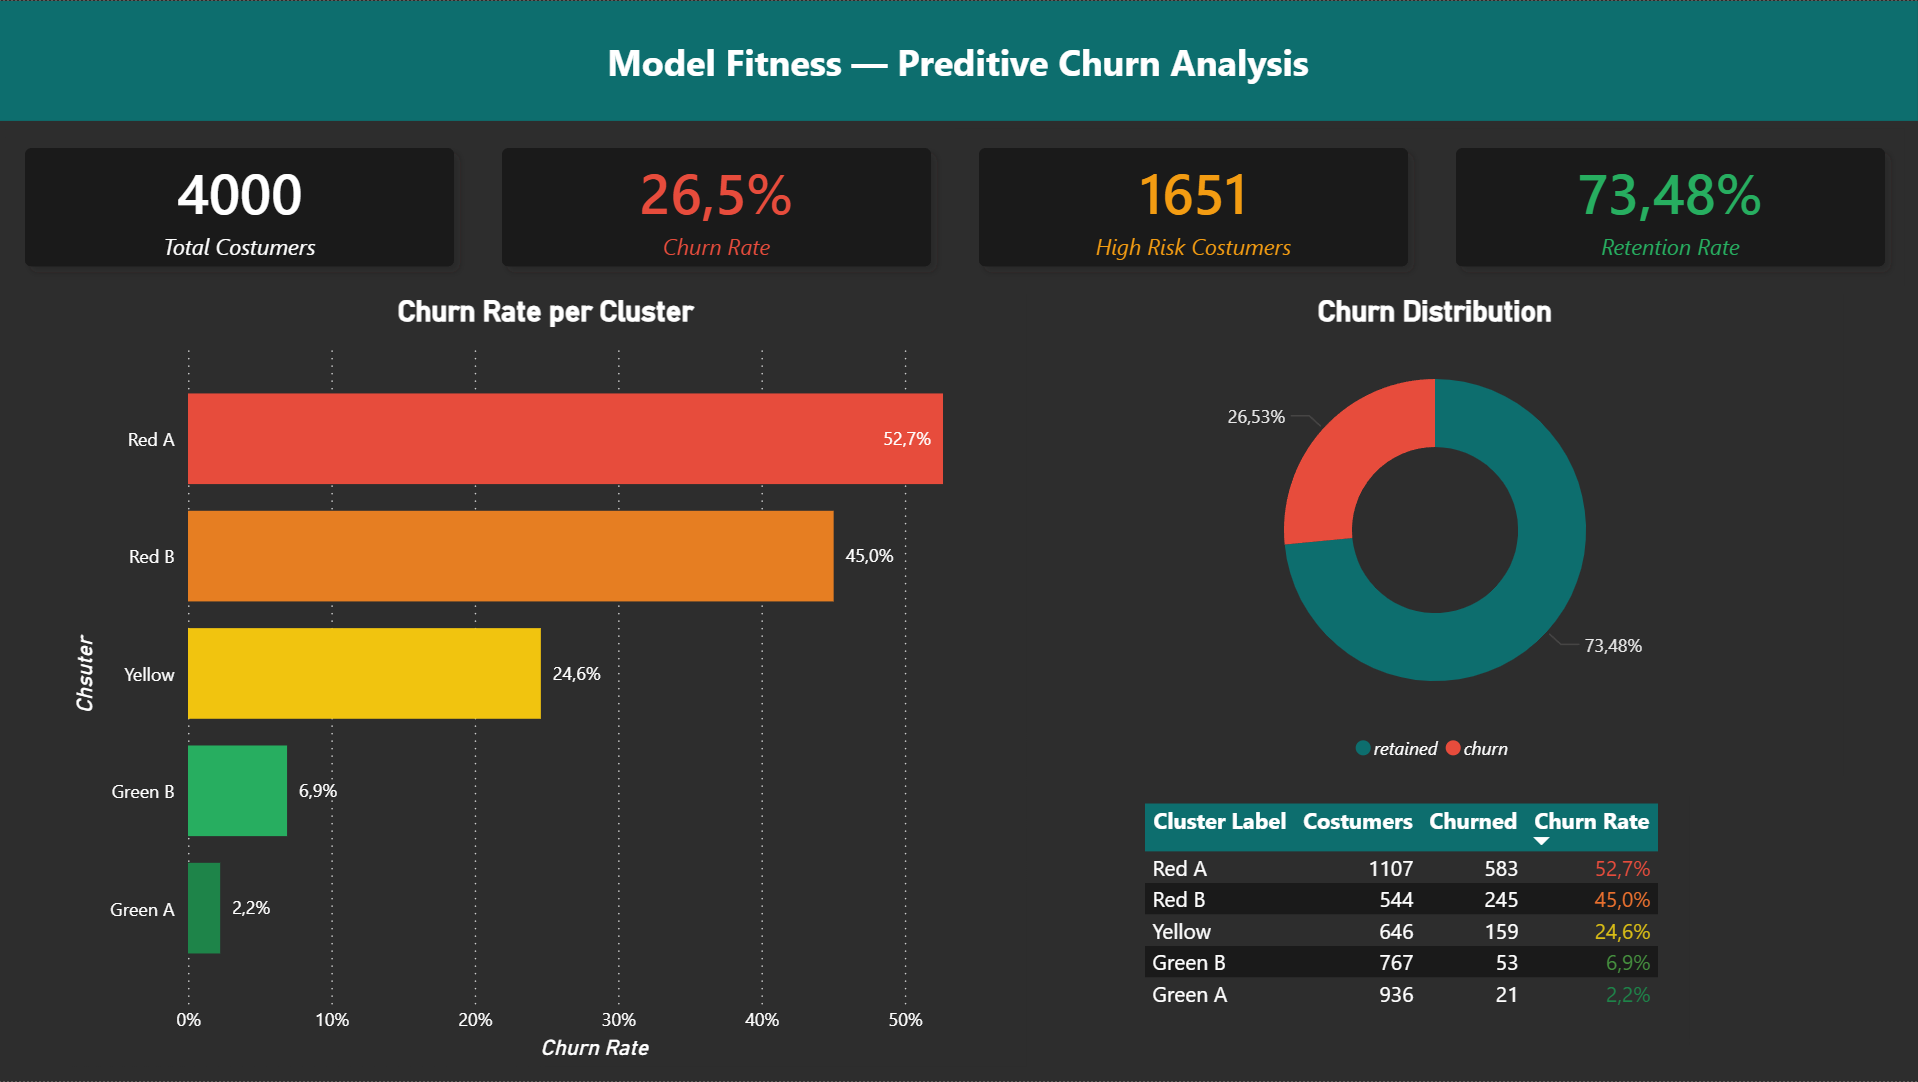

This screenshot's page, from the dashboard's own definition file:
{"tool":"powerbi","page":{"name":"Executive","canvas":[1280,720],"ordinal":0},"visuals":[{"type":"shape","box":[0,0,1279.8,79.8],"z":0},{"type":"cardVisual","fields":{"Data":["gym_churn.total_costumers","gym_churn.churn_rate","gym_churn.risk_costumers","gym_churn.retention_rate"]},"box":[0,79.8,1279.8,115.7],"z":1000},{"type":"donutChart","title":"Churn Distribution","fields":{"Y":["gym_churn.total_costumers"],"Category":["gym_churn.Situation"]},"box":[685.4,195.4,545.4,320.8],"z":2000},{"type":"clusteredBarChart","title":"Churn Rate per Cluster","fields":{"Category":["gym_churn.cluster_label"],"Y":["gym_churn.churn_rate"]},"box":[44.5,195.6,641,515.1],"z":3000},{"type":"tableEx","title":"Cluster Resume ","fields":{"Values":["gym_churn.cluster_label","gym_churn.total_costumers","gym_churn.total_churn","gym_churn.churn_rate"]},"box":[758.4,530.1,369.3,166.4],"z":4000}]}

Visuals, with their boxes in screenshot pixels (x1, y1, x2, y2), scaled from the page's 1280x720 canvas onto the 1918x1082 screenshot:
shape: <box>0,0,1917,120</box>
cardVisual - gym_churn.total_costumers x gym_churn.churn_rate: <box>0,120,1917,294</box>
"Churn Distribution" donutChart: <box>1027,294,1844,776</box>
"Churn Rate per Cluster" clusteredBarChart: <box>67,294,1027,1068</box>
"Cluster Resume " tableEx: <box>1136,797,1690,1047</box>
